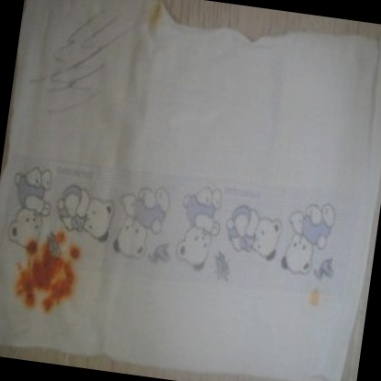kimchi: (8, 230, 84, 315), (28, 254, 65, 288), (305, 284, 327, 312), (40, 292, 60, 313), (23, 239, 41, 260), (17, 291, 37, 309), (55, 231, 69, 247), (71, 248, 83, 261)
